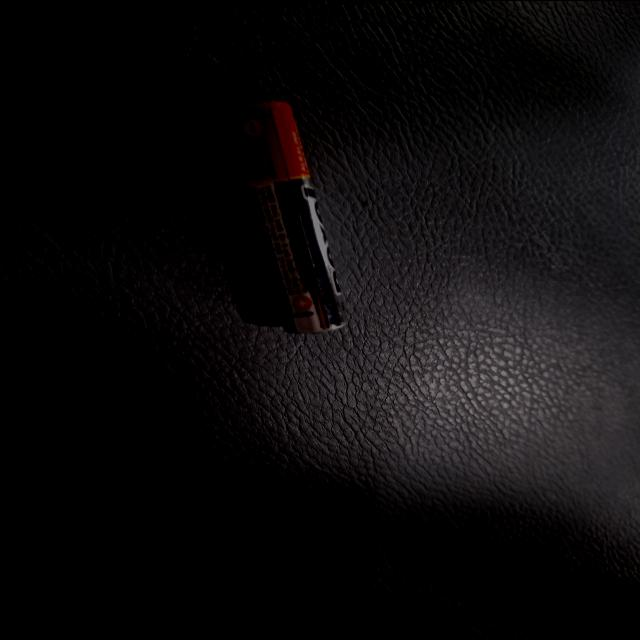AAA: (134, 379, 442, 477)
